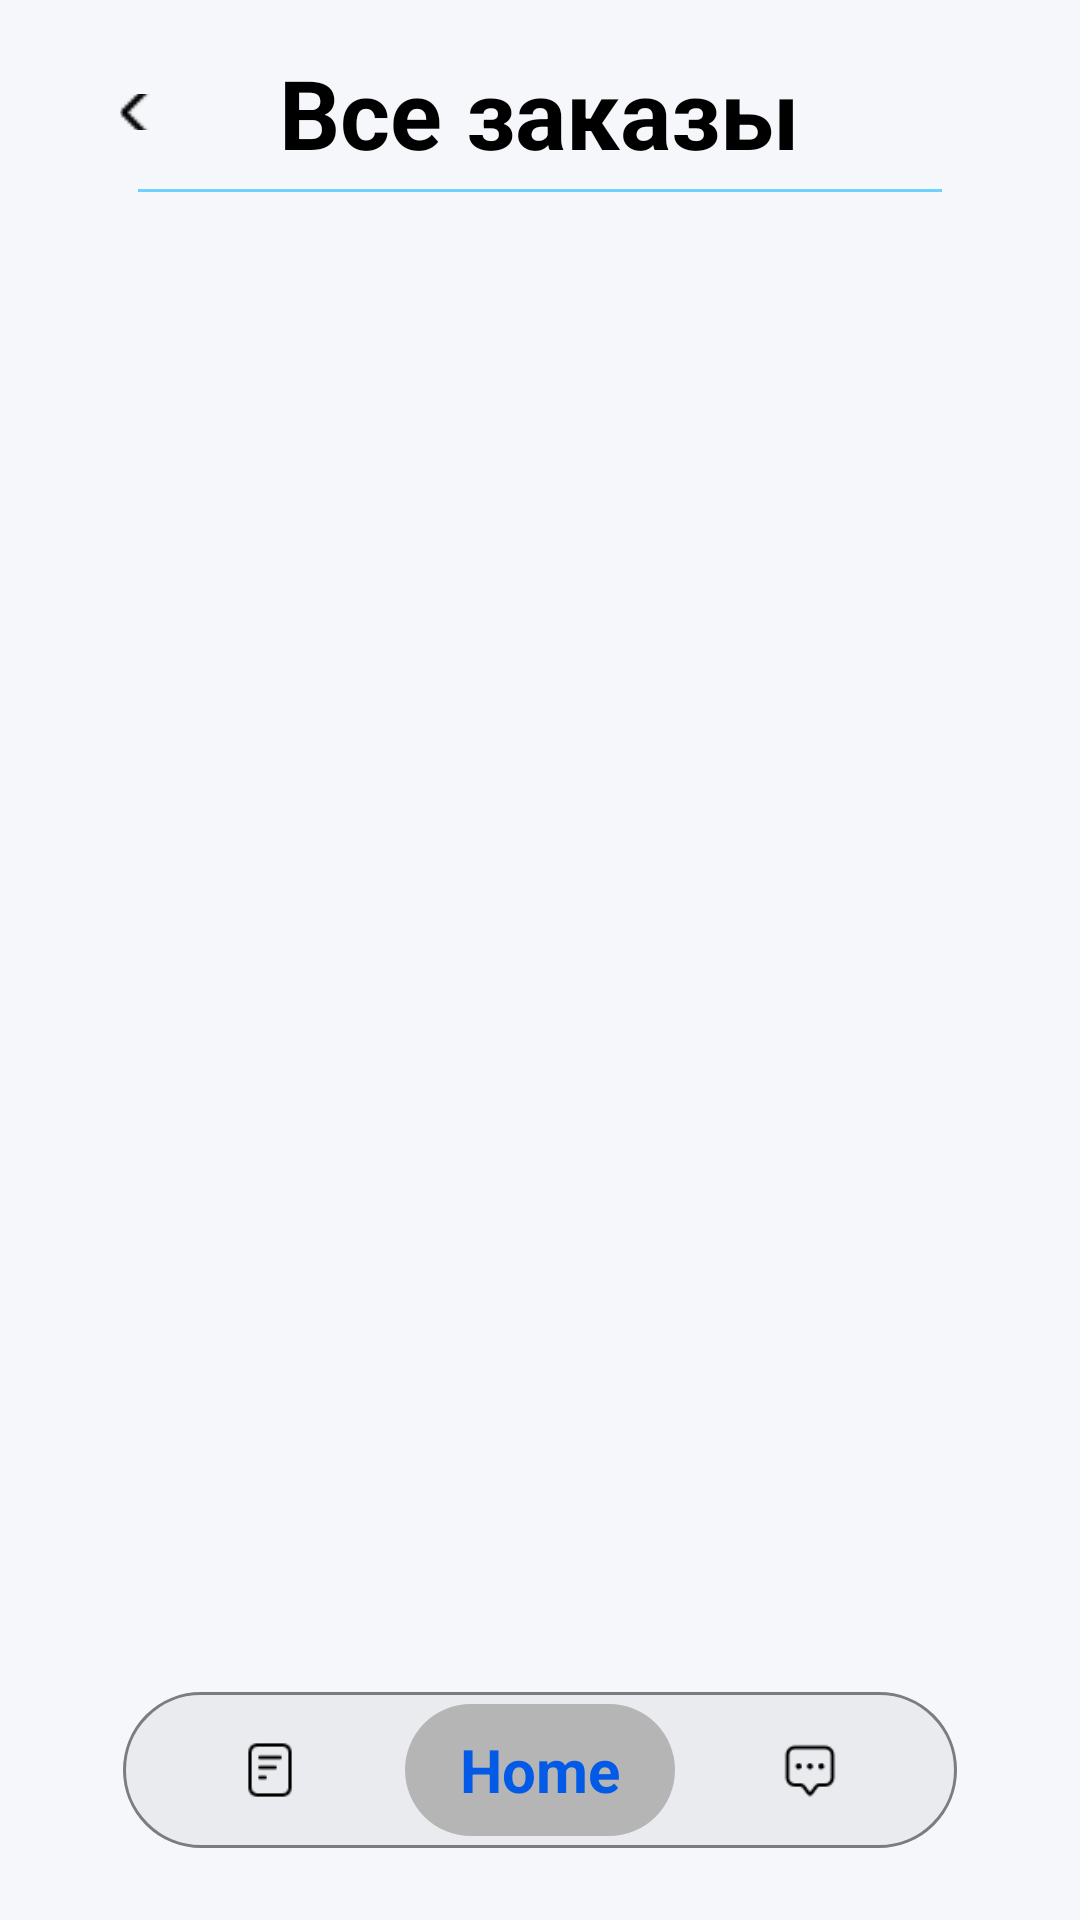

Named icons in this screenshot (1080×1920) and their centers, [x,y]:
back: [134,112]
feedback: [810,1771]
